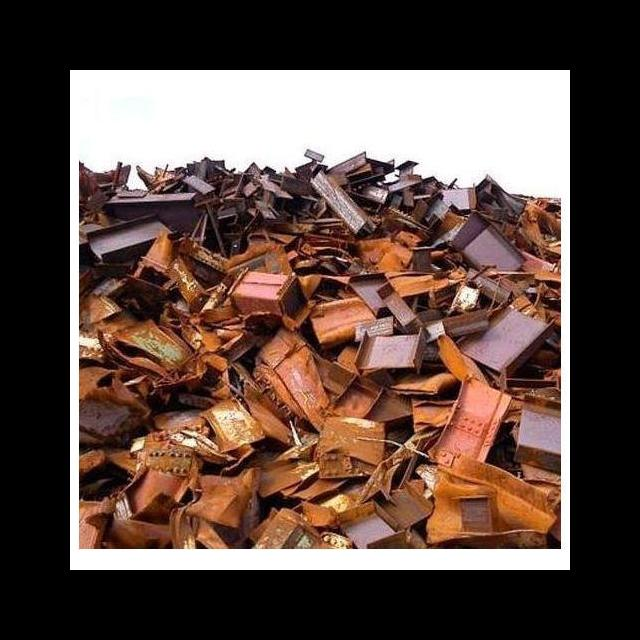metal: (95, 312, 211, 394), (421, 373, 513, 465), (455, 301, 556, 374), (307, 406, 394, 485), (219, 260, 313, 331), (445, 211, 533, 283), (81, 211, 181, 271), (303, 171, 387, 238), (97, 179, 201, 230), (193, 392, 269, 456), (328, 493, 413, 547), (504, 401, 562, 480), (345, 323, 430, 372), (433, 482, 501, 539), (341, 266, 405, 319), (370, 278, 429, 333), (430, 303, 493, 340), (175, 164, 219, 203)
